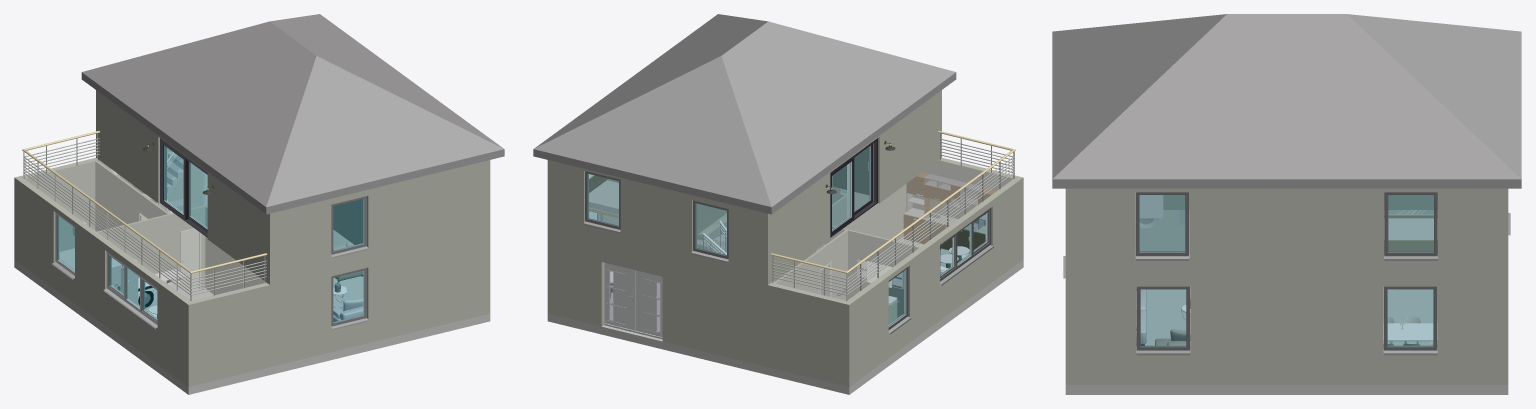
The model's file is house.glb.
3 views of the same model, side by side, from view 1: azimuth 30°, elevation 25°; view 2: azimuth 150°, elevation 25°; view 3: azimuth 270°, elevation 25° (orthographic). The views are drawn at different scales.
Visible parts, largest first — view 1: Wall Murs <257496 G?n?rique - Ext. 200 mm<, Ceiling Plafonds <262410 Plafond 600 mm x 1200 mm<; view 2: Wall Murs <257496 G?n?rique - Ext. 200 mm<, Ceiling Plafonds <262410 Plafond 600 mm x 1200 mm<; view 3: Wall Murs <257496 G?n?rique - Ext. 200 mm<, Ceiling Plafonds <262410 Plafond 600 mm x 1200 mm<.
Boxes of the visible parts, x1,y1,x2,y2 form: Wall Murs <257496 G?n?rique - Ext. 200 mm<: [14, 14, 504, 394]; Ceiling Plafonds <262410 Plafond 600 mm x 1200 mm<: [24, 146, 363, 322]; Wall Murs <257496 G?n?rique - Ext. 200 mm<: [533, 14, 1023, 394]; Ceiling Plafonds <262410 Plafond 600 mm x 1200 mm<: [588, 146, 1013, 331]; Wall Murs <257496 G?n?rique - Ext. 200 mm<: [1052, 14, 1521, 394]; Ceiling Plafonds <262410 Plafond 600 mm x 1200 mm<: [1135, 195, 1437, 348].
Size of the model in its own units: 10350 by 7788 by 10600.
Materials: 2 (2 with a texture image).
